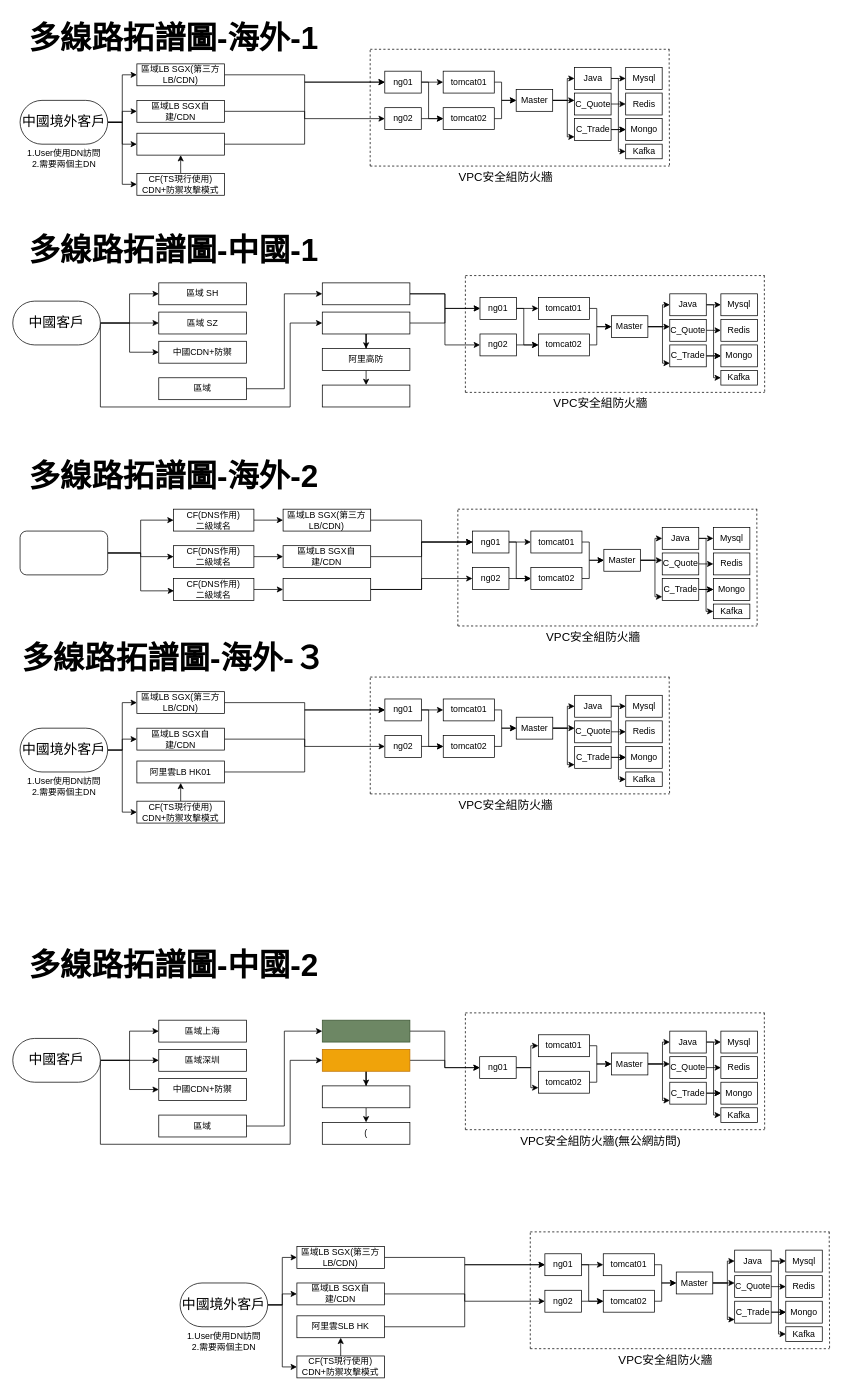
The diagram is 843 pixels wide and 1391 high, and some of its shapes have lost their labels. Here are the shapes that lost their labels. From the top down, the centre of each, then its label:
At point 180,143: "阿里雲LB HK".
At point 366,293: "阿里LB HK-01".
At point 366,322: "阿里LB HK-02".
At point 366,395: "CF".
At point 63,552: "海外客戶".
At point 326,589: "阿里雲LB HK(標準)".
At point 366,1030: "阿里SLB HK-01(中國跳點，不對外)".
At point 366,1060: "阿里SLB HK-02(對外公開，用戶訪問)".
At point 366,1096: "阿里跨境防護產品(需要詢問阿里雲)".
